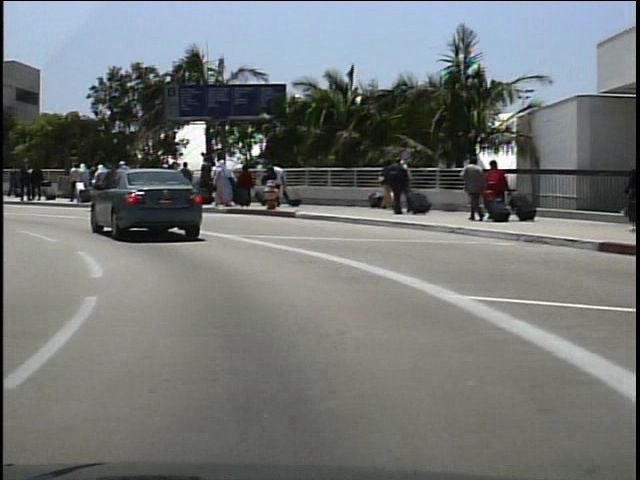person: (458, 154, 486, 224), (378, 156, 409, 217), (482, 157, 509, 221), (26, 160, 50, 208), (266, 158, 288, 207), (17, 157, 36, 202), (4, 164, 22, 203)
